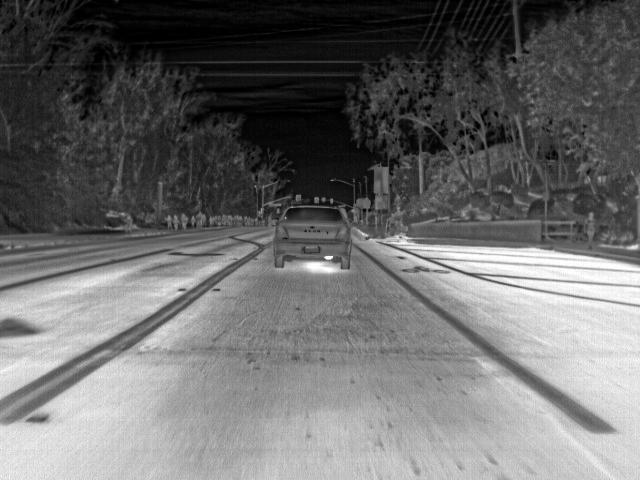car: (272, 205, 352, 271)
person: (582, 211, 597, 250), (196, 212, 204, 229), (172, 214, 180, 228), (166, 214, 174, 228), (189, 213, 197, 226), (181, 213, 188, 227), (209, 214, 216, 227)
